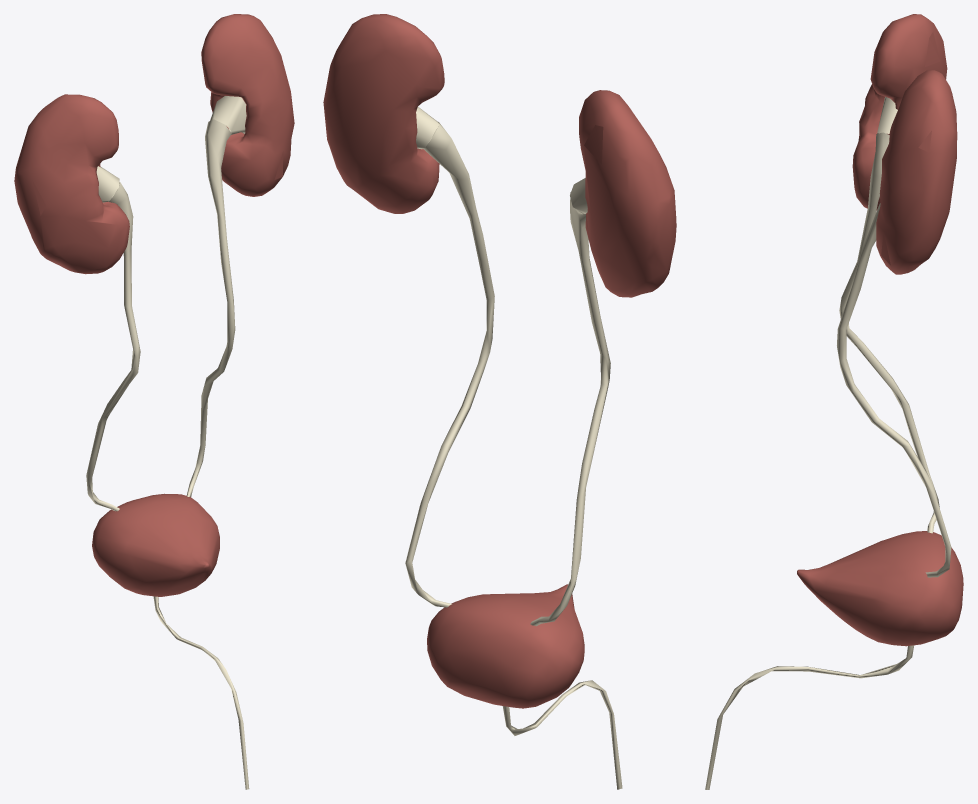
File: adult_male.urinary.LOD4.glb
3 renders of one model, left to right at view 1: azimuth 30°, elevation 25°; view 2: azimuth 150°, elevation 25°; view 3: azimuth 270°, elevation 25°, orthographic. The views are drawn at different scales.
Parts seen in each view (by area): view 1: ADULT.MALE.URINARY.KIDNEY.R, ADULT.MALE.URINARY.KIDNEY.L, ADULT.MALE.URINARY.URINARY_BLADDER, ADULT.MALE.URINARY.URETER.L, ADULT.MALE.URINARY.URETER.R, ADULT.MALE.URINARY.URETHRA, ADULT.MALE.URINARY.RENAL_PELVIS.L, ADULT.MALE.URINARY.RENAL_PELVIS.R; view 2: ADULT.MALE.URINARY.KIDNEY.L, ADULT.MALE.URINARY.KIDNEY.R, ADULT.MALE.URINARY.URINARY_BLADDER, ADULT.MALE.URINARY.URETER.L, ADULT.MALE.URINARY.URETER.R, ADULT.MALE.URINARY.URETHRA, ADULT.MALE.URINARY.RENAL_PELVIS.L; view 3: ADULT.MALE.URINARY.URINARY_BLADDER, ADULT.MALE.URINARY.KIDNEY.L, ADULT.MALE.URINARY.KIDNEY.R, ADULT.MALE.URINARY.URETER.L, ADULT.MALE.URINARY.URETER.R, ADULT.MALE.URINARY.URETHRA, ADULT.MALE.URINARY.RENAL_PELVIS.R.
Boxes of the visible parts, box(x1,y1,x2,y2) form: ADULT.MALE.URINARY.KIDNEY.R: box(14, 94, 129, 274); ADULT.MALE.URINARY.KIDNEY.L: box(201, 14, 294, 196); ADULT.MALE.URINARY.URINARY_BLADDER: box(92, 493, 219, 596); ADULT.MALE.URINARY.URETER.L: box(186, 119, 235, 496); ADULT.MALE.URINARY.URETER.R: box(86, 182, 140, 511); ADULT.MALE.URINARY.URETHRA: box(153, 596, 249, 789); ADULT.MALE.URINARY.RENAL_PELVIS.L: box(210, 96, 246, 134); ADULT.MALE.URINARY.RENAL_PELVIS.R: box(96, 166, 119, 202); ADULT.MALE.URINARY.KIDNEY.L: box(323, 14, 444, 213); ADULT.MALE.URINARY.KIDNEY.R: box(579, 90, 676, 297); ADULT.MALE.URINARY.URINARY_BLADDER: box(427, 584, 584, 708); ADULT.MALE.URINARY.URETER.L: box(405, 122, 494, 607); ADULT.MALE.URINARY.URETER.R: box(530, 192, 610, 626); ADULT.MALE.URINARY.URETHRA: box(502, 680, 622, 789); ADULT.MALE.URINARY.RENAL_PELVIS.L: box(416, 107, 439, 149); ADULT.MALE.URINARY.URINARY_BLADDER: box(797, 531, 963, 646); ADULT.MALE.URINARY.KIDNEY.L: box(876, 70, 957, 274); ADULT.MALE.URINARY.KIDNEY.R: box(852, 14, 947, 210); ADULT.MALE.URINARY.URETER.L: box(837, 203, 951, 577); ADULT.MALE.URINARY.URETER.R: box(839, 132, 939, 533); ADULT.MALE.URINARY.URETHRA: box(705, 645, 914, 789); ADULT.MALE.URINARY.RENAL_PELVIS.R: box(877, 97, 897, 133).
Size of the model in its own units: 0.178 by 0.4204 by 0.129.
